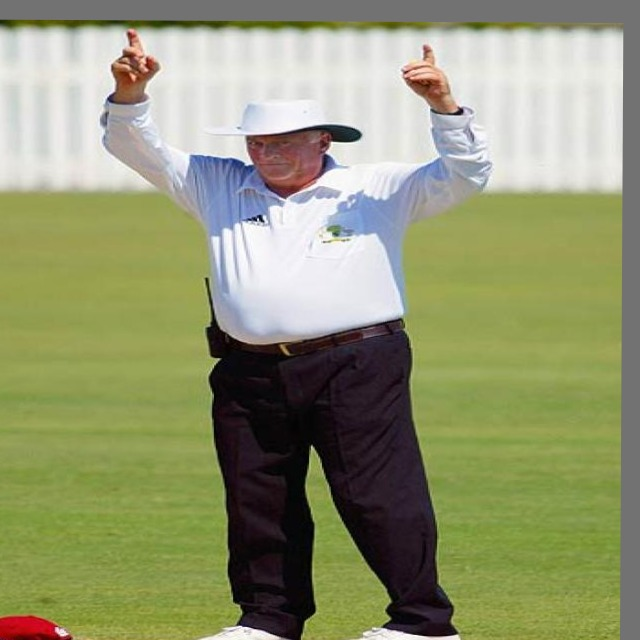Six: (73, 21, 529, 640)
